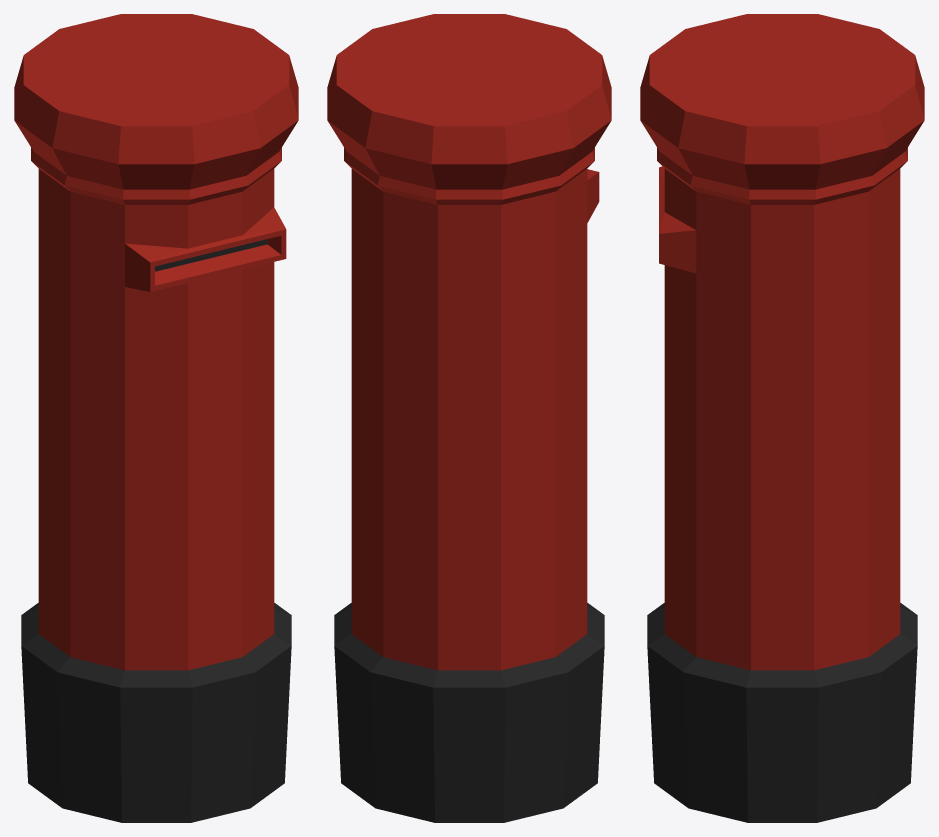
File: PostBox.fbx
3 renders of one model, left to right at view 1: azimuth 30°, elevation 25°; view 2: azimuth 150°, elevation 25°; view 3: azimuth 270°, elevation 25°, orthographic.
Parts seen in each view (by area): view 1: PostBox; view 2: PostBox; view 3: PostBox.
Part boxes in pixels (bbox=[...]): PostBox: bbox=[14, 14, 298, 822]; PostBox: bbox=[327, 14, 611, 822]; PostBox: bbox=[640, 14, 924, 822].
Bounding box in the file's own units: 59.07 × 160 × 59.07.
